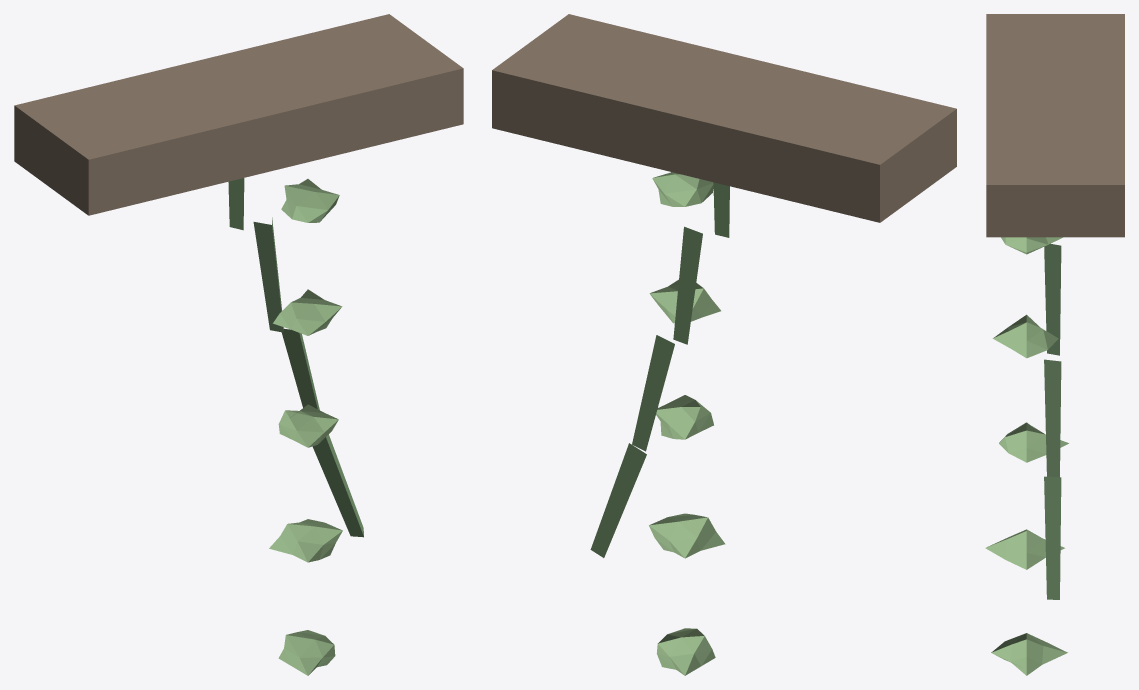
Rendered from vine_v20.glb.
3 renders of one model, left to right at view 1: azimuth 30°, elevation 25°; view 2: azimuth 150°, elevation 25°; view 3: azimuth 270°, elevation 25°, orthographic. The views are drawn at different scales.
Parts seen in each view (by area): view 1: lod0; view 2: lod0; view 3: lod0.
Boxes of the visible parts, <box> form: lod0: <box>14,14,463,675</box>; lod0: <box>492,14,956,675</box>; lod0: <box>985,14,1124,675</box>.
Size of what is drawn, in the model's own units: 0.7 by 1.05 by 0.2421.
